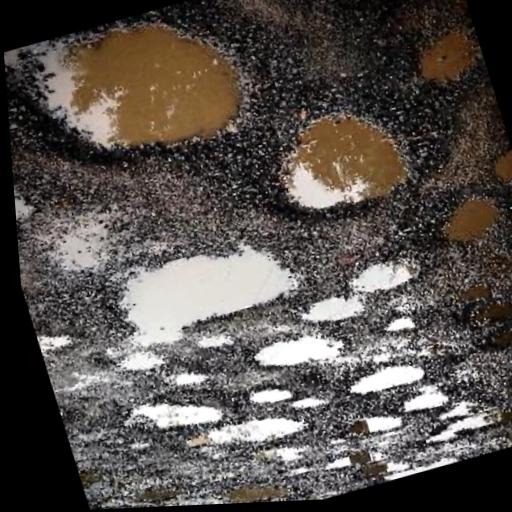pothole: (4, 0, 268, 194), (93, 221, 315, 356), (259, 99, 422, 234), (181, 403, 316, 470), (393, 21, 493, 111), (267, 0, 450, 40), (123, 387, 232, 448), (247, 327, 353, 386), (412, 393, 512, 454), (427, 190, 512, 259), (340, 249, 428, 304), (342, 359, 429, 407), (294, 289, 371, 335), (340, 408, 414, 446), (13, 171, 47, 235), (399, 387, 455, 420), (245, 382, 293, 412), (381, 313, 419, 341), (487, 155, 512, 191)
